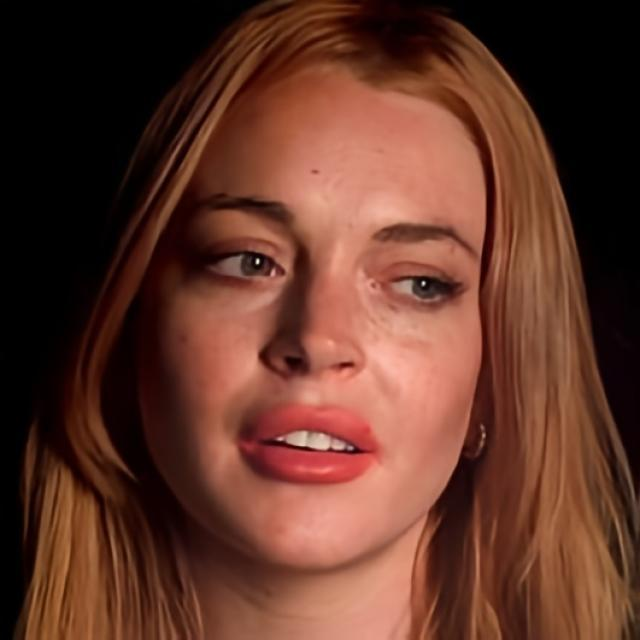disgust: (131, 53, 492, 570)
